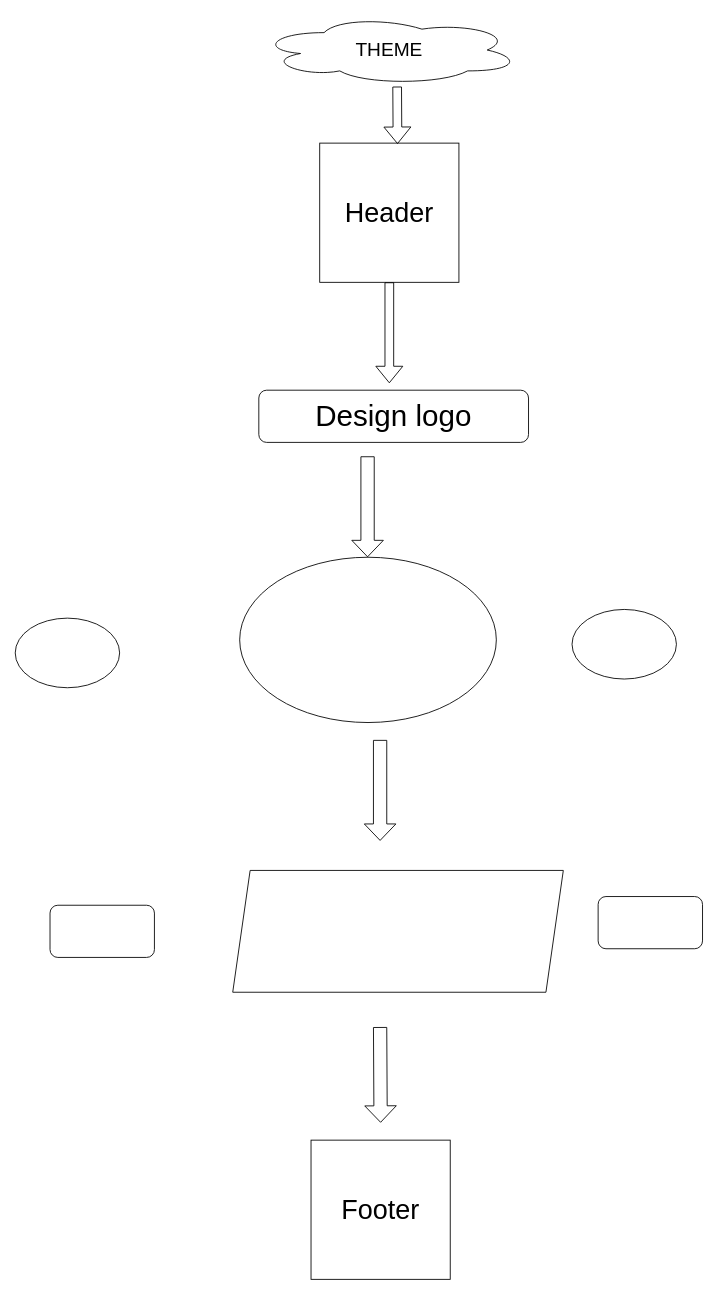
This 718x1295 diagram has some shape labels left out. The box of each missing label's shape, as (x1, y1, x2, y2) in pixels:
BLOG: (232, 870, 563, 992)
Menu: (239, 556, 496, 723)
